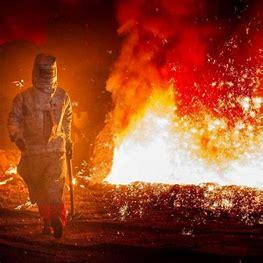smoke: (109, 68, 263, 195)
